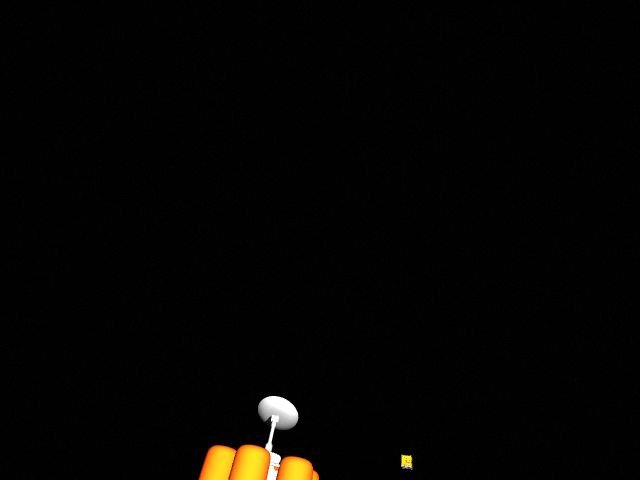cubesat: (400, 454, 414, 470)
